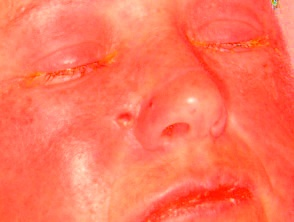SJS-TEN: (11, 30, 141, 111), (183, 29, 285, 59)
